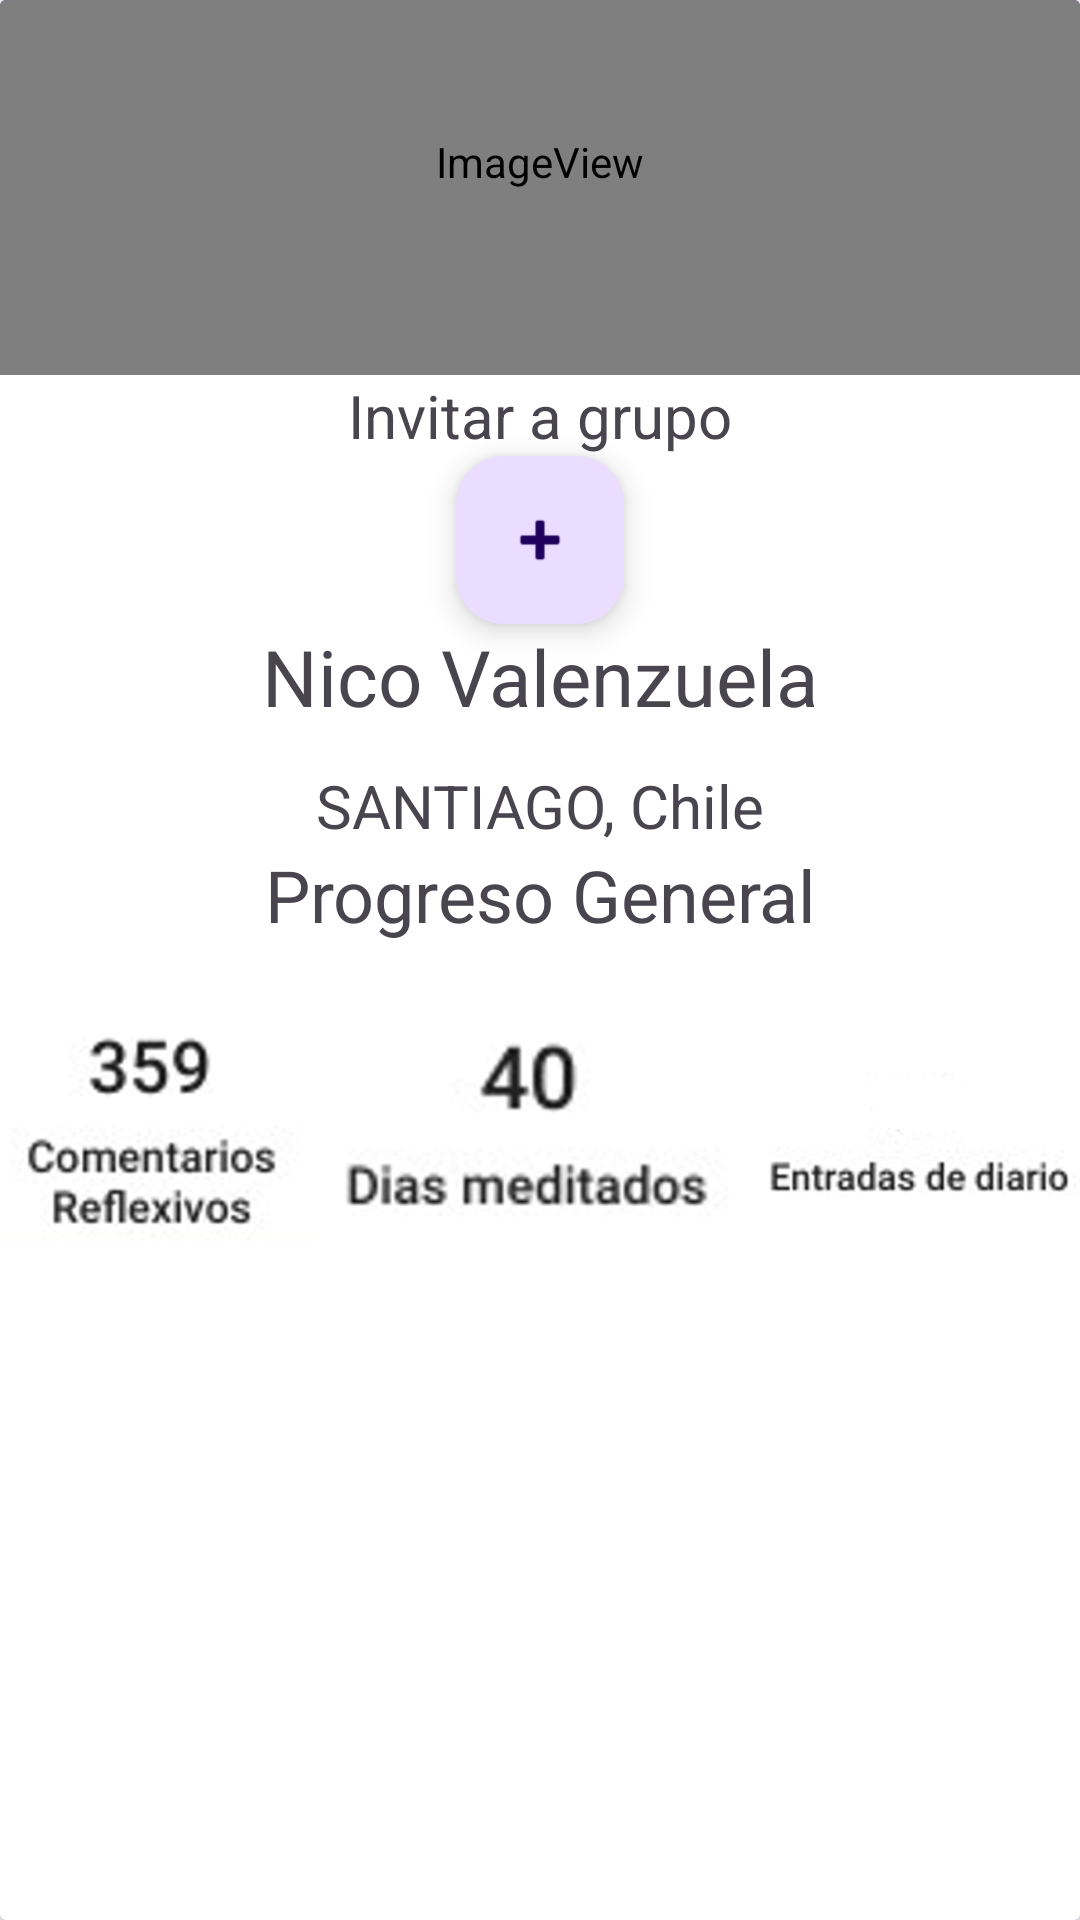

Where to tap for icons on this 1080x1920 app screen, as (x=x, y=y):
add: (x=540, y=540)
